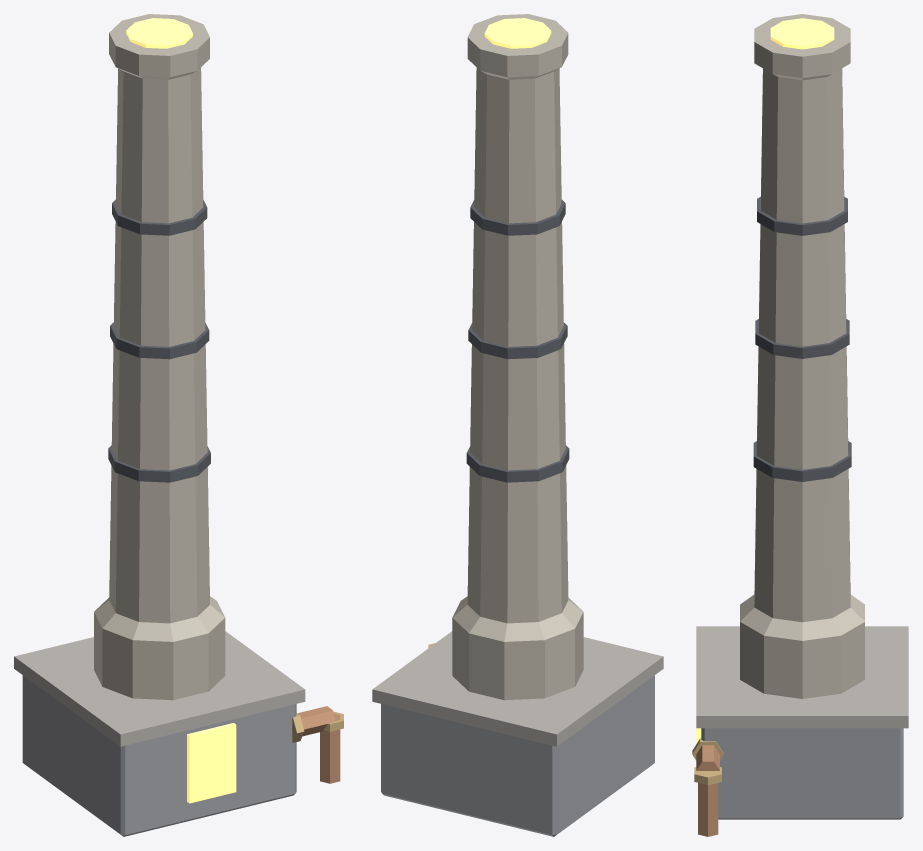
Rendered from smokestack.glb.
3 views of the same model, side by side, from view 1: azimuth 30°, elevation 25°; view 2: azimuth 150°, elevation 25°; view 3: azimuth 270°, elevation 25° (orthographic).
Visible parts, largest first — view 1: smokestack; view 2: smokestack; view 3: smokestack.
Boxes of the visible parts, <box> form: smokestack: <box>14,14,343,836</box>; smokestack: <box>372,14,663,836</box>; smokestack: <box>692,14,908,836</box>.
Size of the model in its own units: 7.82 by 24.4 by 6.42.
